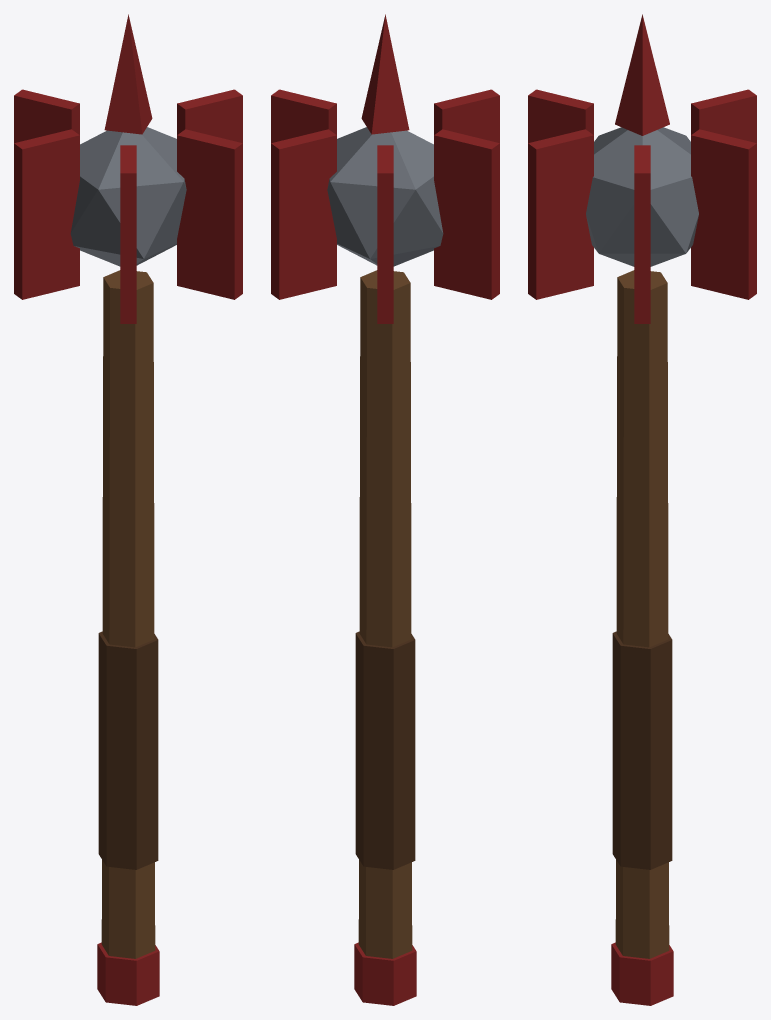
Rendered from weapon_warhammer.glb.
3 renders of one model, left to right at view 1: azimuth 30°, elevation 25°; view 2: azimuth 150°, elevation 25°; view 3: azimuth 270°, elevation 25°, orthographic.
Visible parts, largest first — view 1: human_weapon_warhammer; view 2: human_weapon_warhammer; view 3: human_weapon_warhammer.
Part boxes in pixels (left/top/right/bottom): human_weapon_warhammer: left=14, top=14, right=242, bottom=1005; human_weapon_warhammer: left=271, top=14, right=499, bottom=1005; human_weapon_warhammer: left=528, top=14, right=756, bottom=1005.
Bounding box in the file's own units: 0.276 × 1.17 × 0.248.
